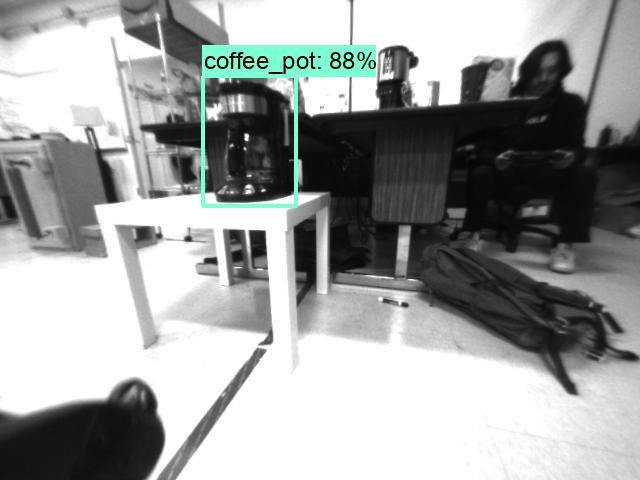coffee_pot: (212, 81, 298, 204)
